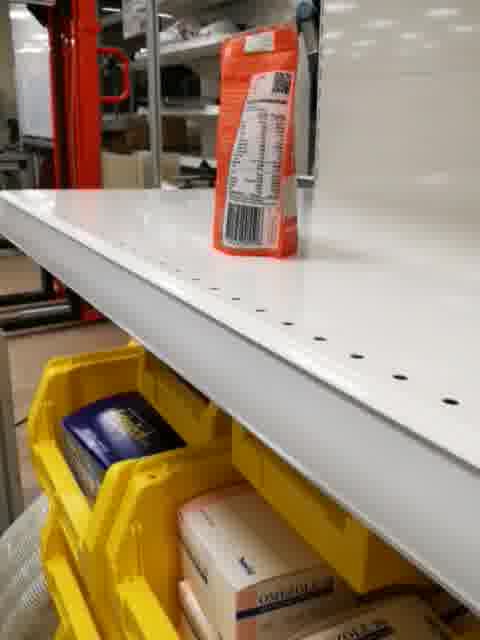whitechia: (210, 23, 302, 260)
